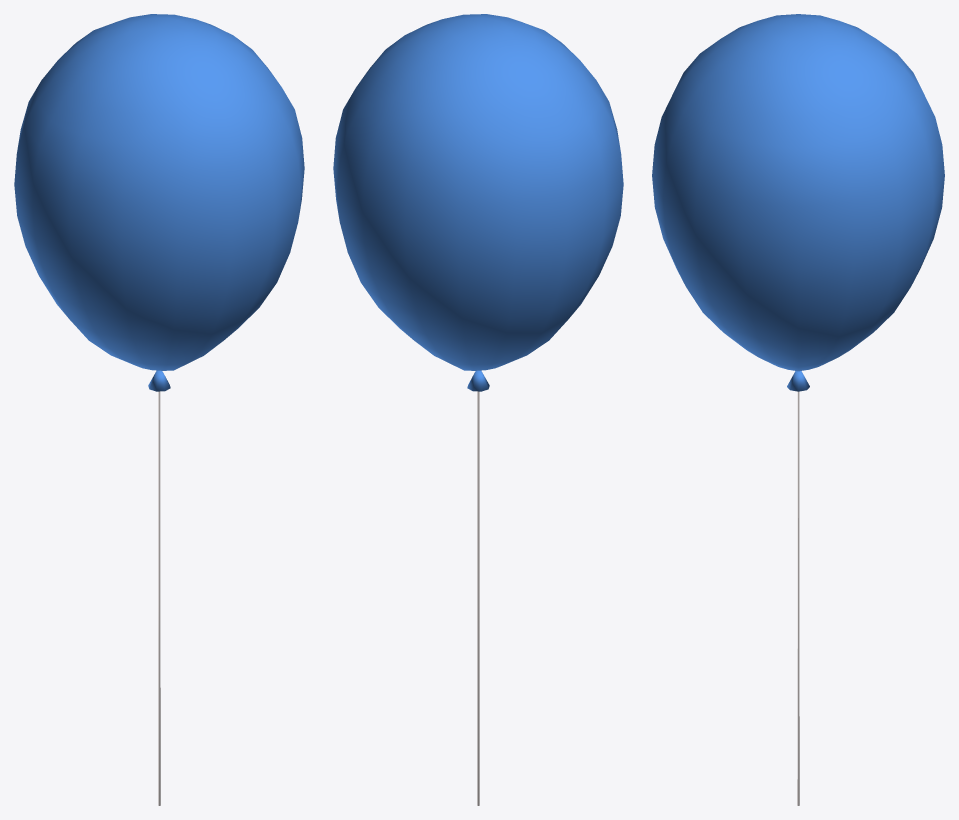
Rendered from Light_BlueBalloon.fbx.
The picture shows the model from 3 angles, left to right: view 1: azimuth 30°, elevation 25°; view 2: azimuth 150°, elevation 25°; view 3: azimuth 270°, elevation 25°; orthographic projection.
Parts seen in each view (by area): view 1: balloon-light-yellow; view 2: balloon-light-yellow; view 3: balloon-light-yellow.
Part boxes in pixels (x1,y1,x2,y2): balloon-light-yellow: (14,14,304,805); balloon-light-yellow: (333,14,623,805); balloon-light-yellow: (652,14,944,805).
Size of the model in its own units: 93.12 by 273 by 93.09.
2 materials, 2 textured.
